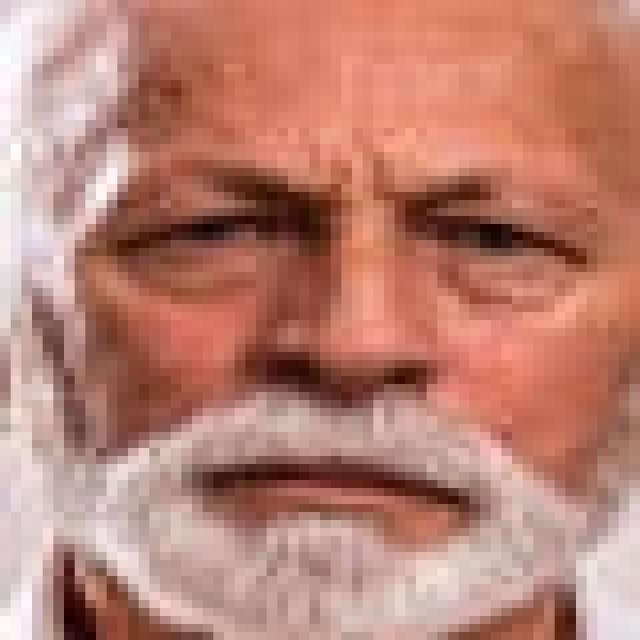Anxiety: (2, 0, 629, 632)
